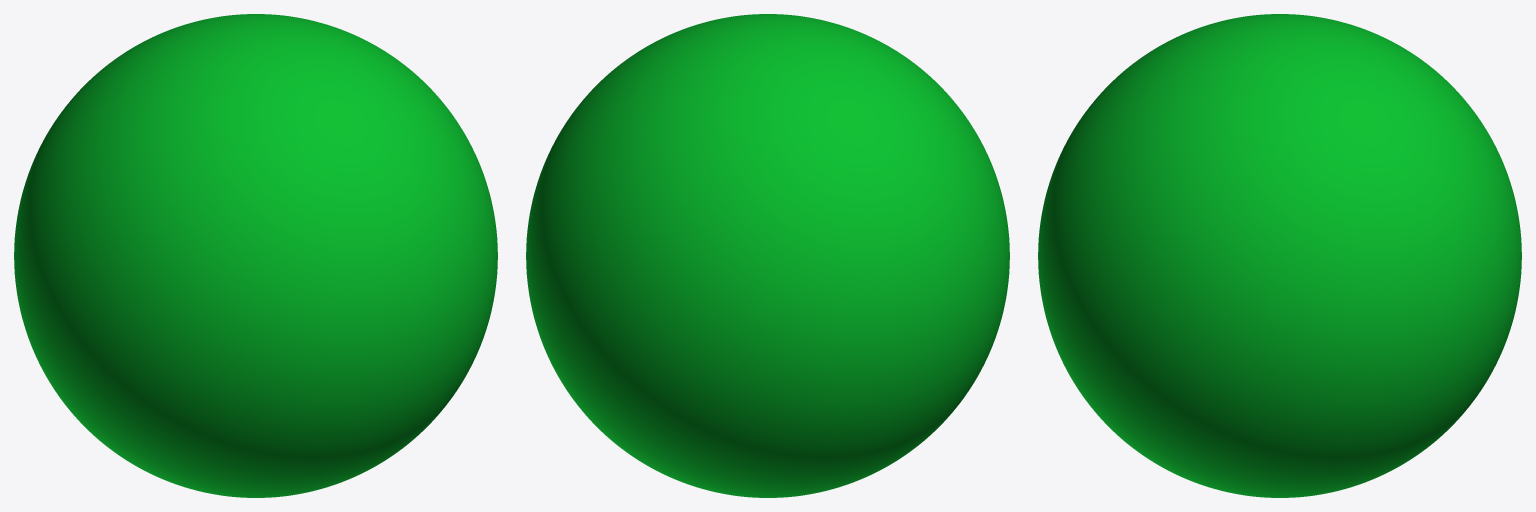
File: PlanetHP.obj
3 renders of one model, left to right at view 1: azimuth 30°, elevation 25°; view 2: azimuth 150°, elevation 25°; view 3: azimuth 270°, elevation 25°, orthographic.
Visible parts, largest first — view 1: Planet; view 2: Planet; view 3: Planet.
Part boxes in pixels (box(x1,y1,x2,y2)): Planet: box(14, 14, 497, 497); Planet: box(526, 14, 1009, 497); Planet: box(1038, 14, 1521, 497).
Bounding box in the file's own units: 0.9988 × 1 × 0.9988.
